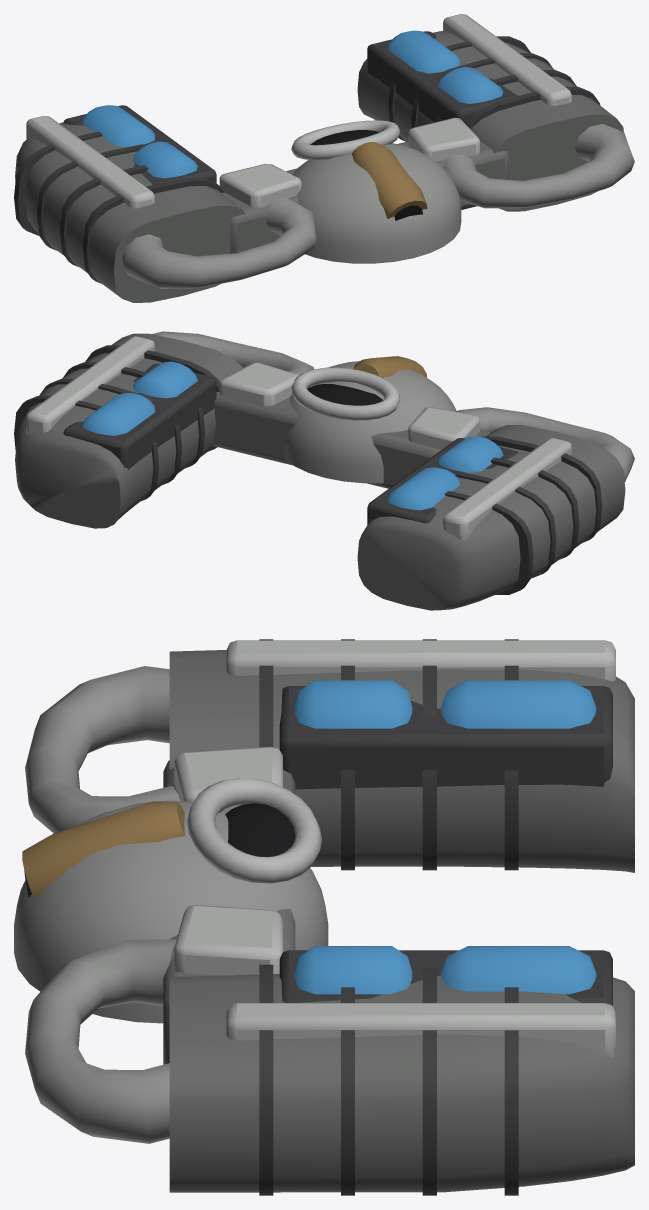
File: store_gun_11.glb
The picture shows the model from 3 angles, top to bottom: view 1: azimuth 30°, elevation 25°; view 2: azimuth 150°, elevation 25°; view 3: azimuth 270°, elevation 25°; orthographic projection. The views are drawn at different scales.
Visible parts, largest first — view 1: steel_mid, steel, steel_light, steel_dark, glass_blue, nozzle, black; view 2: steel_mid, steel_light, steel_dark, steel, glass_blue, black, nozzle; view 3: steel_mid, steel, steel_light, steel_dark, glass_blue, nozzle, black.
Part boxes in pixels (x1,y1,x2,y2): steel_mid: (15, 31, 623, 302); steel: (122, 124, 634, 288); steel_light: (26, 14, 571, 208); steel_dark: (14, 31, 600, 283); glass_blue: (83, 30, 503, 178); nozzle: (352, 142, 427, 218); black: (310, 130, 422, 220); steel_mid: (15, 333, 625, 610); steel_light: (26, 336, 571, 541); steel_dark: (14, 345, 602, 594); steel: (151, 331, 634, 483); glass_blue: (83, 361, 503, 510); black: (307, 384, 382, 405); nozzle: (353, 356, 426, 377); steel_mid: (163, 650, 634, 1192); steel: (14, 666, 328, 1143); steel_light: (174, 640, 615, 1057); steel_dark: (259, 639, 612, 1195); glass_blue: (294, 680, 596, 994); nozzle: (22, 801, 184, 899); black: (24, 803, 295, 897).
Bounding box in the file's own units: 67.5 × 13.5 × 39.5.
